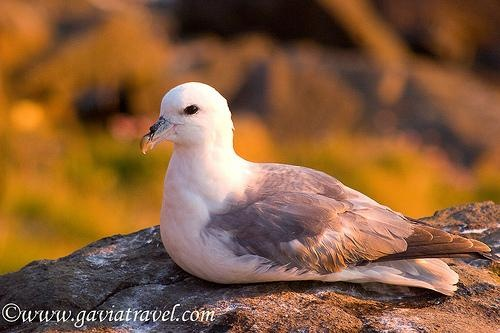bird: (139, 79, 472, 298)
